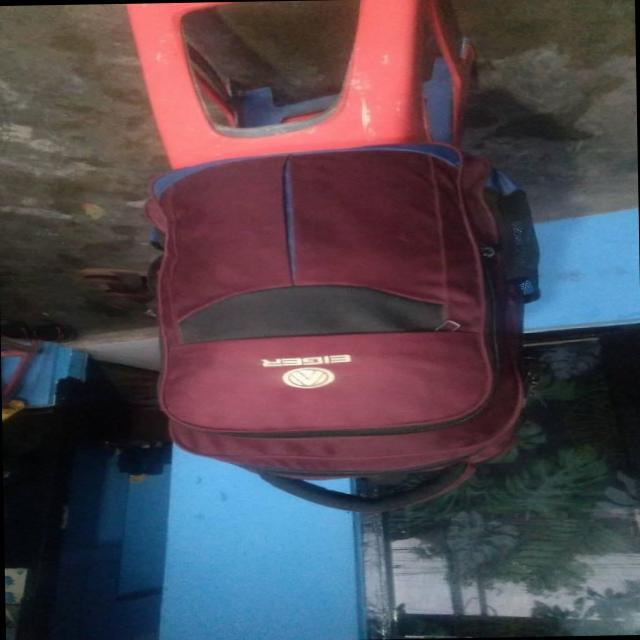bag: (157, 153, 530, 510)
